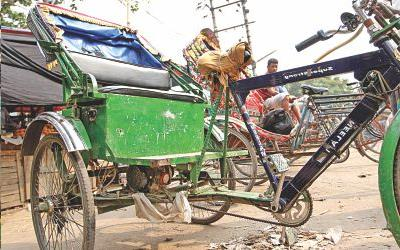Rickshaw: (17, 2, 205, 234), (180, 21, 352, 159), (255, 62, 373, 153)
